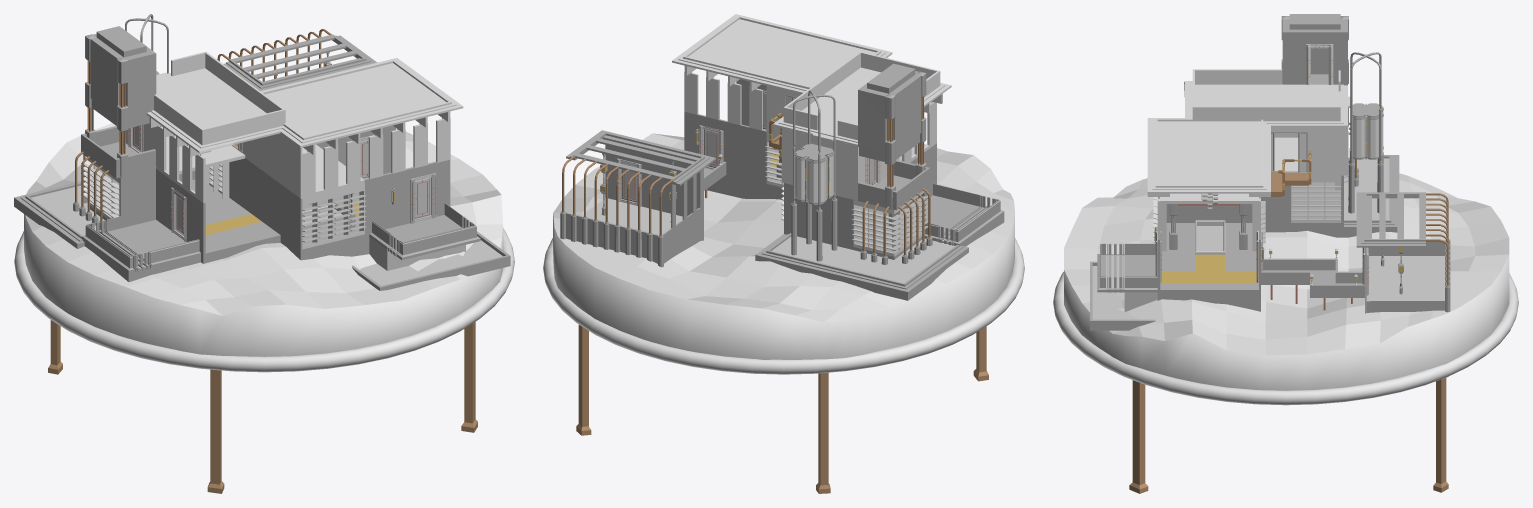
Rendered from TutoModel.fbx.
3 renders of one model, left to right at view 1: azimuth 30°, elevation 25°; view 2: azimuth 150°, elevation 25°; view 3: azimuth 270°, elevation 25°, orthographic. The views are drawn at different scales.
Parts seen in each view (by area): view 1: Plane.006, Cube.012, solMur_L0, tourTable, poteau_tour, Cube.014, Cube.003, Cube.004, solMur_L1, Cube.005, Plane.012, persienne_L0_F (+6 smaller); view 2: Plane.006, Cube.012, Cube.005, Cube.014, solMur_L0, tourTable, poteau_tour, solMur_L1, Plane.012, Cube.020, Cube.010, Cube.000 (+6 smaller); view 3: Plane.006, Cube.012, solMur_L0, Cube.005, tourTable, Cube.003, poteau_tour, solMur_L1, Cube.017, Plane.012, Cube.014, ascenceur (+6 smaller).
Part boxes in pixels (x1=…): Plane.006: x1=24, y1=123, x2=503, y2=356; Cube.012: x1=146, y1=51, x2=463, y2=153; solMur_L0: x1=90, y1=125, x2=450, y2=263; tourTable: x1=14, y1=229, x2=514, y2=372; poteau_tour: x1=81, y1=26, x2=156, y2=178; Cube.014: x1=14, y1=181, x2=200, y2=282; Cube.003: x1=352, y1=203, x2=510, y2=290; Cube.004: x1=302, y1=111, x2=450, y2=195; solMur_L1: x1=125, y1=123, x2=364, y2=203; Cube.005: x1=217, y1=29, x2=376, y2=90; Plane.012: x1=48, y1=320, x2=477, y2=493; persienne_L0_F: x1=302, y1=183, x2=366, y2=249; Plane.006: x1=553, y1=133, x2=1014, y2=359; Cube.012: x1=672, y1=14, x2=951, y2=146; Cube.005: x1=560, y1=130, x2=715, y2=267; Cube.014: x1=755, y1=183, x2=1004, y2=300; solMur_L0: x1=684, y1=79, x2=936, y2=259; tourTable: x1=543, y1=238, x2=1024, y2=374; poteau_tour: x1=858, y1=63, x2=930, y2=210; solMur_L1: x1=766, y1=86, x2=936, y2=200; Plane.012: x1=576, y1=325, x2=988, y2=493; Cube.020: x1=851, y1=191, x2=928, y2=256; Cube.010: x1=684, y1=66, x2=762, y2=130; Cube.000: x1=791, y1=90, x2=837, y2=261; Plane.006: x1=1064, y1=173, x2=1509, y2=390; Cube.012: x1=1147, y1=69, x2=1350, y2=193; solMur_L0: x1=1157, y1=175, x2=1343, y2=311; Cube.005: x1=1356, y1=192, x2=1450, y2=313; tourTable: x1=1053, y1=272, x2=1518, y2=405; Cube.003: x1=1090, y1=243, x2=1157, y2=330; poteau_tour: x1=1281, y1=14, x2=1348, y2=126; solMur_L1: x1=1160, y1=127, x2=1349, y2=203; Cube.017: x1=1261, y1=258, x2=1364, y2=310; Plane.012: x1=1129, y1=376, x2=1448, y2=493; Cube.014: x1=1344, y1=155, x2=1399, y2=237; ascenceur: x1=1352, y1=103, x2=1383, y2=159.
Bounding box in the file's own units: 1.67 × 1.41 × 1.67.
